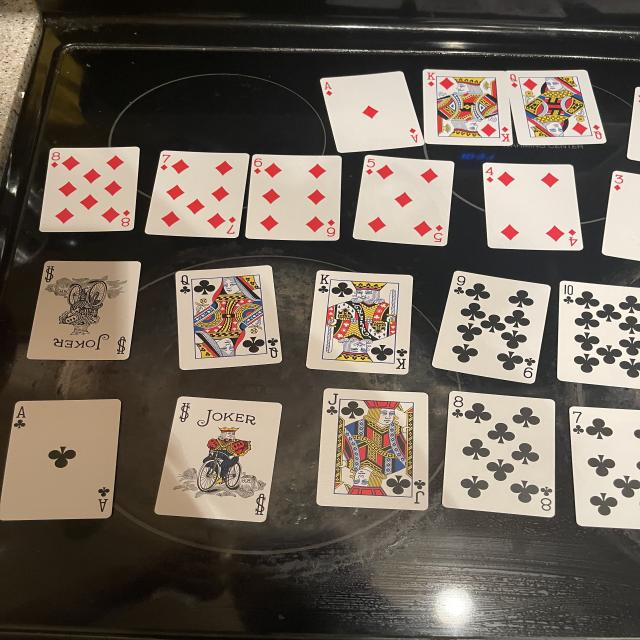10 of clubs: (557, 281, 640, 389)
3 of diamonds: (602, 171, 640, 260)
4 of diamonds: (483, 162, 583, 250)
5 of diamonds: (353, 155, 455, 246)
6 of diamonds: (245, 155, 342, 241)
7 of clubs: (570, 406, 640, 529)
7 of diamonds: (145, 151, 250, 238)
8 of clubs: (442, 391, 555, 518)
8 of diamonds: (40, 146, 140, 232)
9 of clubs: (432, 271, 550, 384)
Ace of clubs: (0, 399, 122, 520)
Ace of diamonds: (320, 71, 423, 152)
Jack of clubs: (317, 389, 428, 510)
Joker: (155, 396, 282, 522), (27, 261, 140, 360)
King of clubs: (307, 270, 413, 375)
King of diamonds: (423, 69, 513, 146)
Queen of clubs: (175, 265, 282, 370)
Queen of diamonds: (507, 70, 607, 145)
